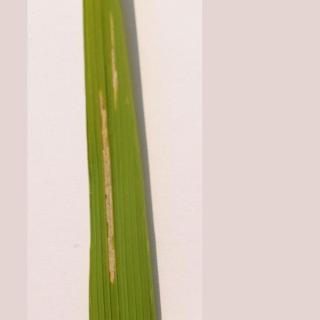Hawar-Daun: (84, 90, 129, 302), (101, 17, 128, 121)
